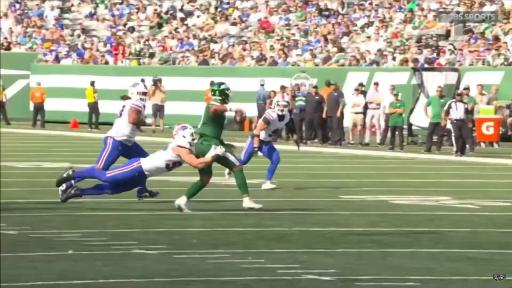Helmet: (211, 82, 231, 104), (173, 124, 196, 143), (273, 92, 290, 114), (129, 82, 147, 102)
Jersey: (141, 141, 190, 177), (106, 100, 145, 144), (259, 110, 290, 141), (198, 104, 225, 139)
Player: (56, 126, 224, 202), (239, 100, 290, 189), (96, 83, 148, 170), (195, 83, 242, 157)
